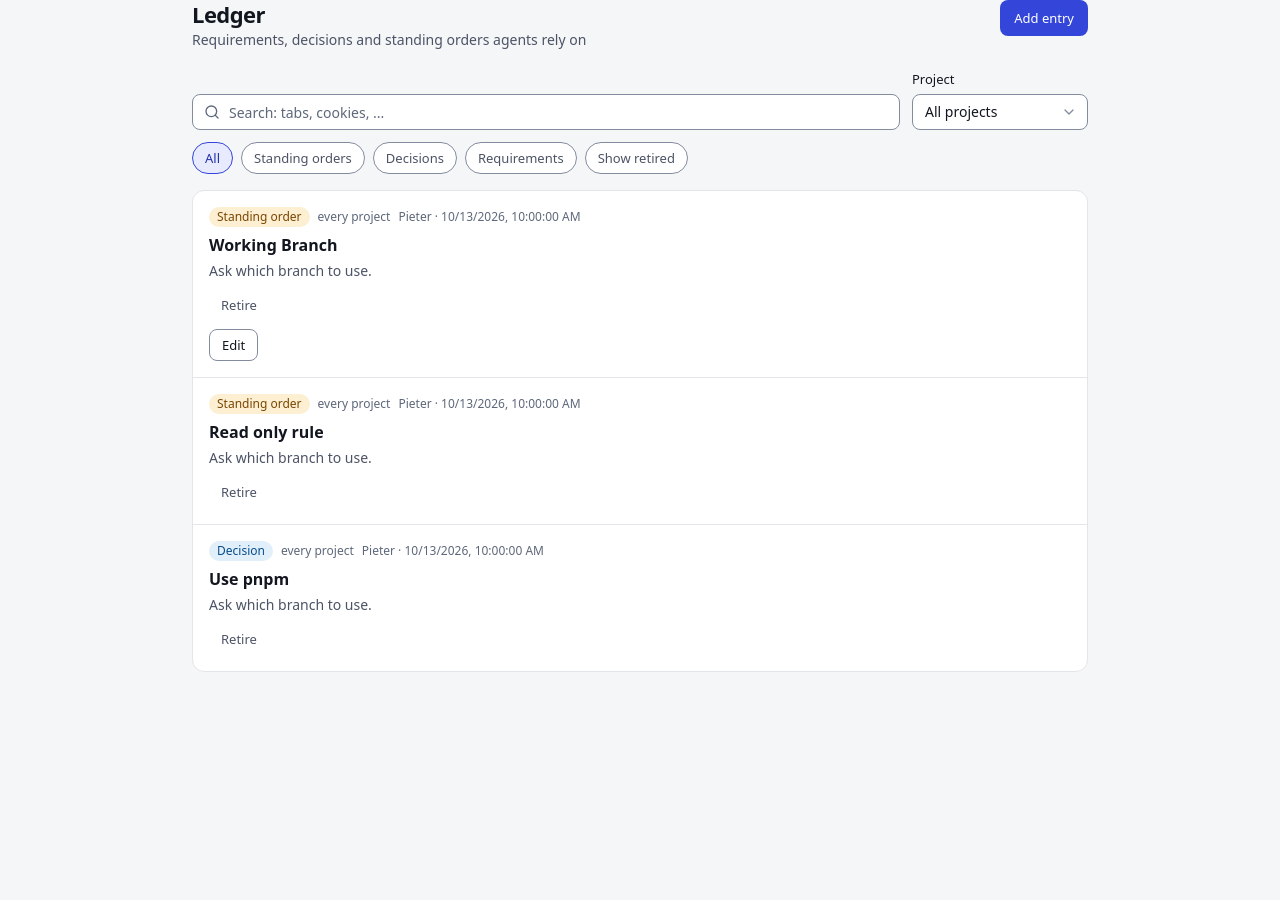
Test: editing a standing order on the Ledger page › saves the new text, then shows it with an edited note and its history
Click the button with aria-label "Edit Working Branch".
click(234, 345)  # box x1=209 y1=329 x2=258 y2=361
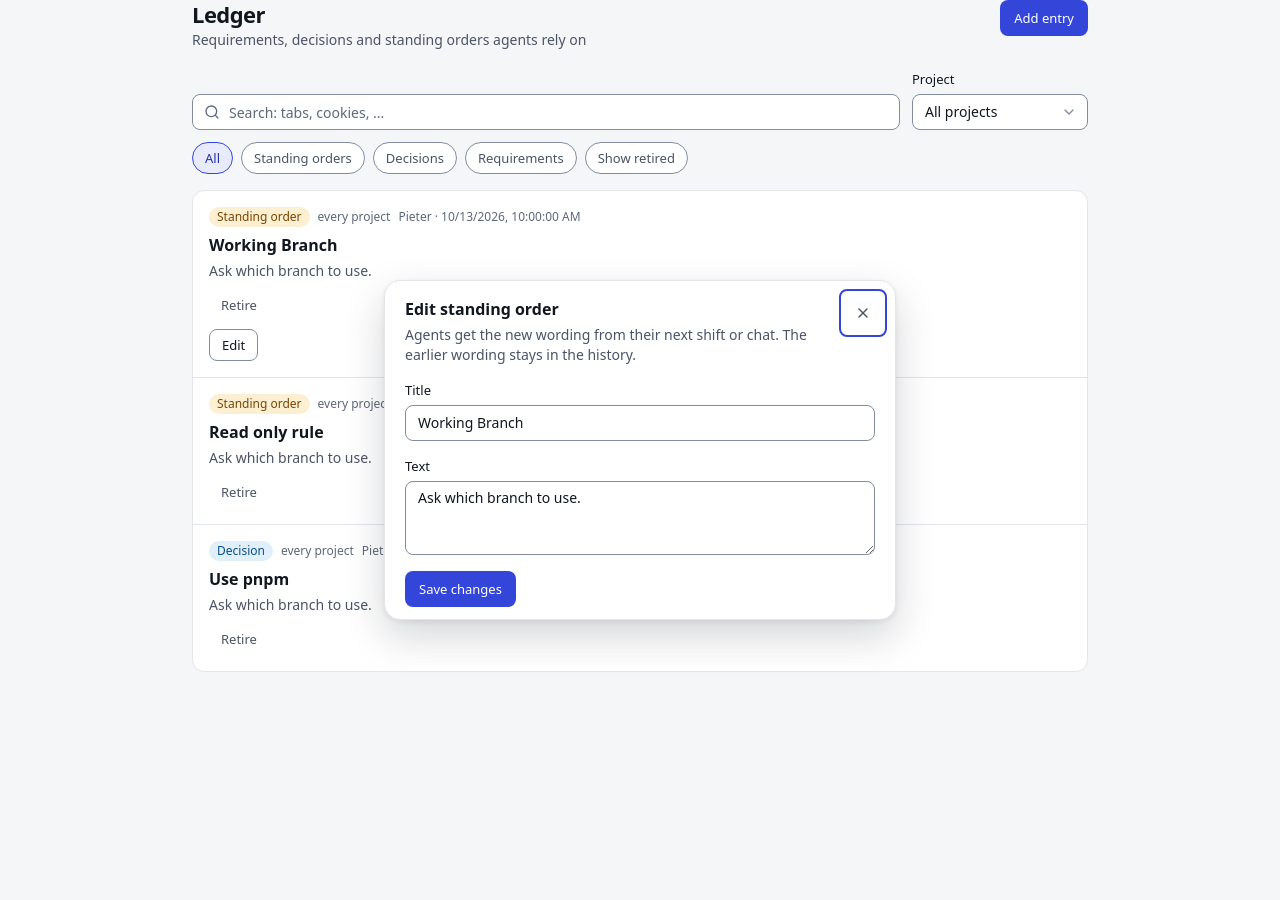
Replace the text in the text box labelled "Text" with "Never ask which branch." at (640, 518), box x1=405 y1=481 x2=875 y2=555
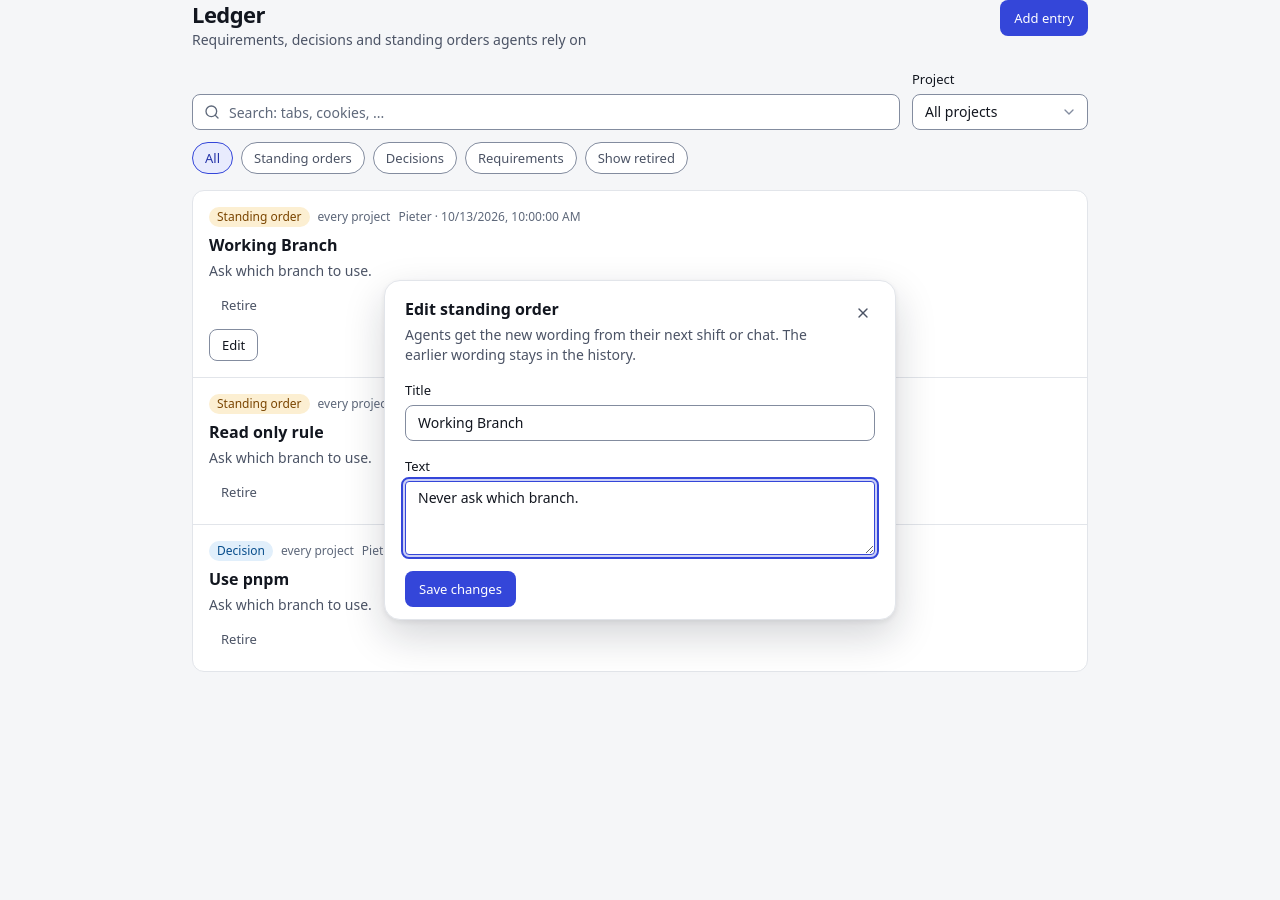
Click the button "Save changes".
click(460, 589)  # box x1=405 y1=571 x2=516 y2=607
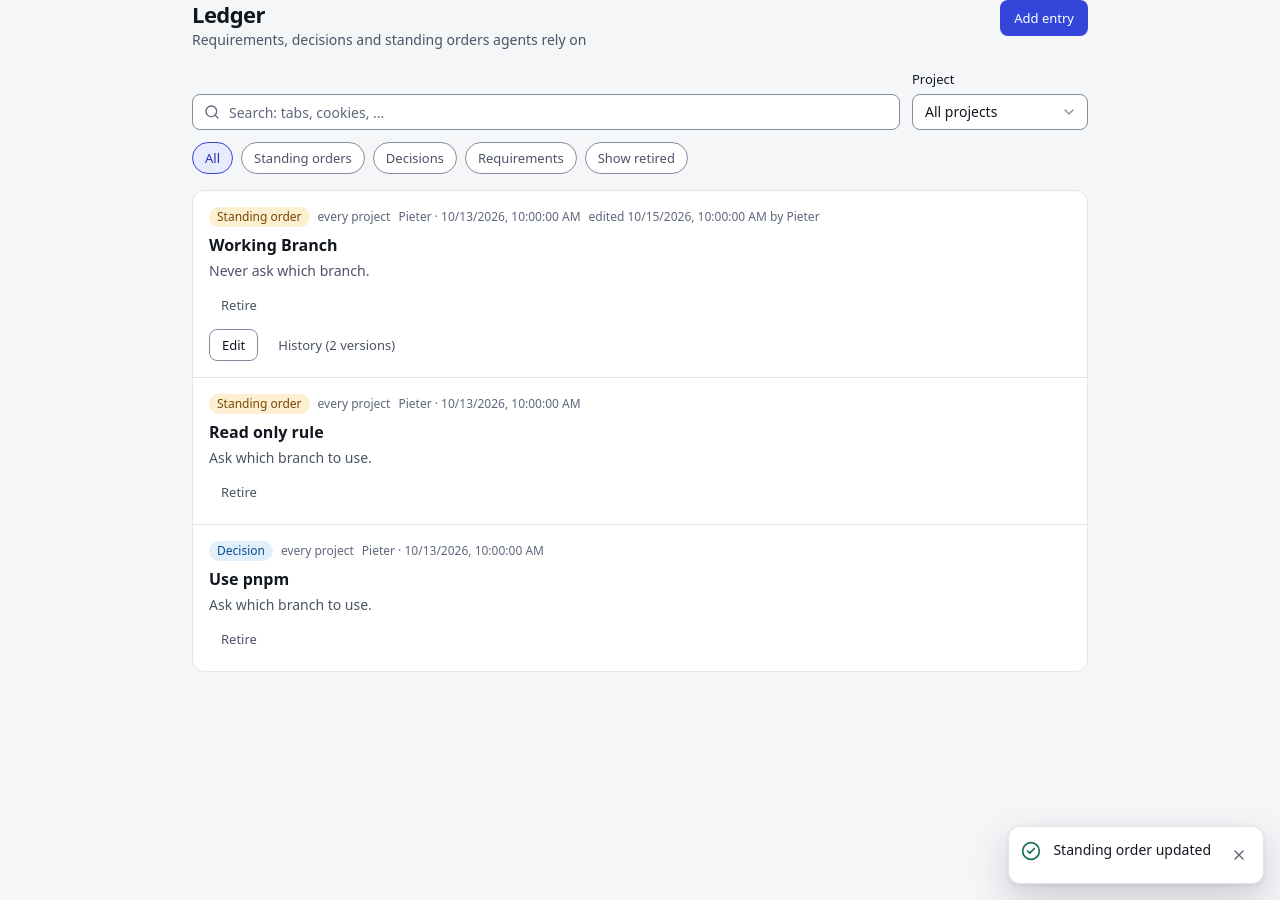
Expected: the list "Edit standing order" is gone
Expected: the text "Never ask which branch." is shown, x1=209 y1=261 x2=369 y2=280
Expected: the text with test id "ledger-edited" shows "edited", x1=589 y1=208 x2=628 y2=225
Click the button with aria-label "History of Working Branch".
click(337, 345)  # box x1=266 y1=329 x2=407 y2=361
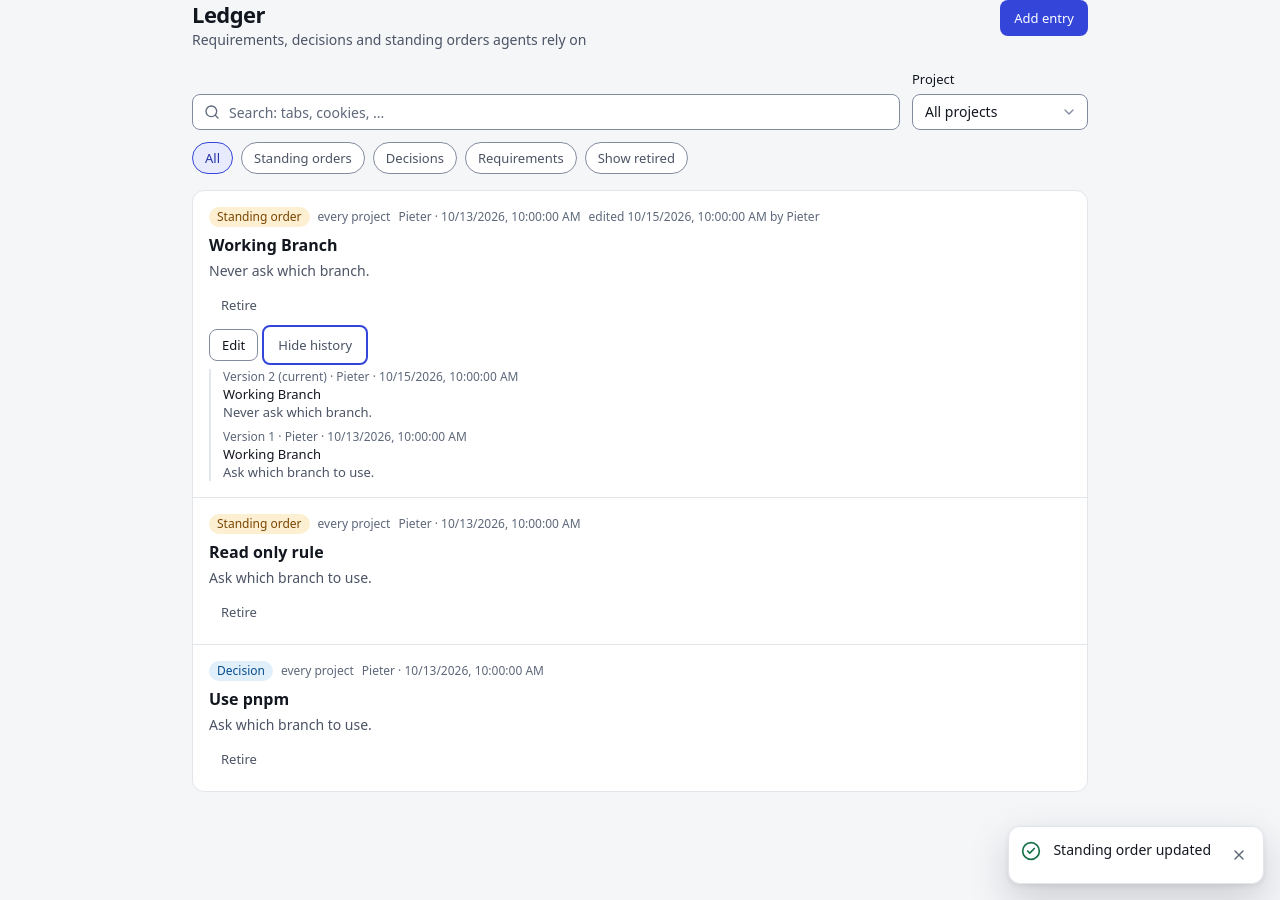
Expected: the list with test id "ledger-history" shows "Version 2 (current)", x1=209 y1=369 x2=1071 y2=481
Expected: the list with test id "ledger-history" shows "Ask which branch to use.", x1=223 y1=463 x2=374 y2=481
